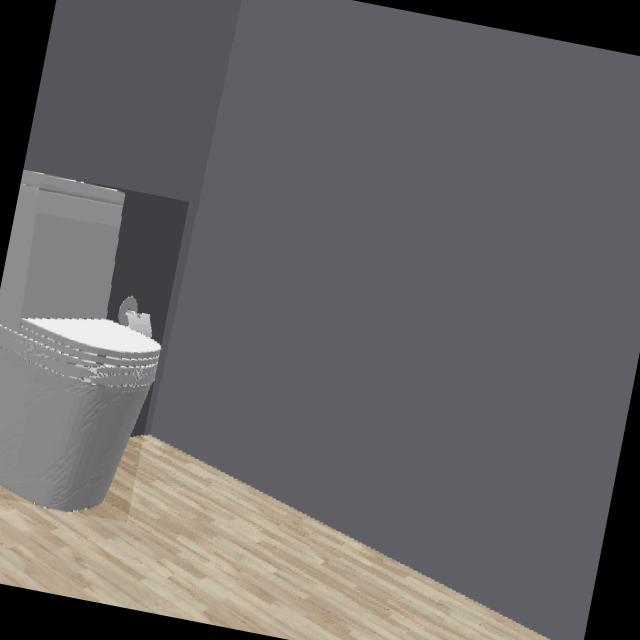toilet: (0, 171, 161, 512)
